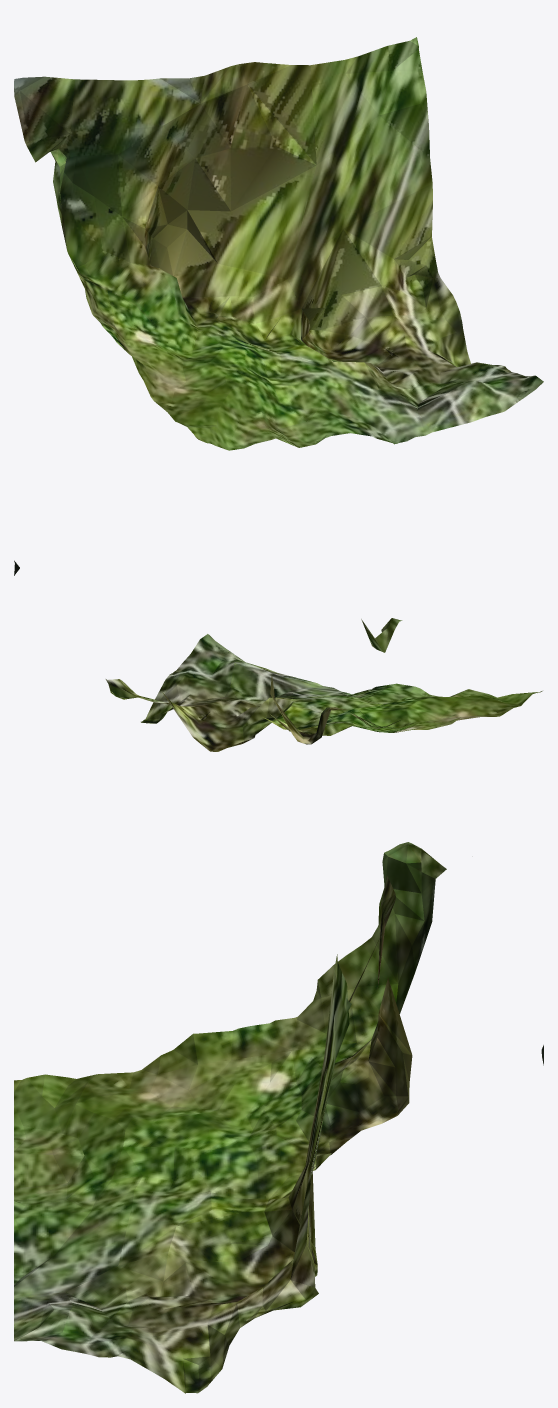
The picture shows the model from 3 angles, top to bottom: view 1: azimuth 30°, elevation 25°; view 2: azimuth 150°, elevation 25°; view 3: azimuth 270°, elevation 25°; orthographic projection. The views are drawn at different scales.
Bounding box in the file's own units: 1.67 × 1.36 × 1.67.
Materials: 3 (3 with a texture image).
